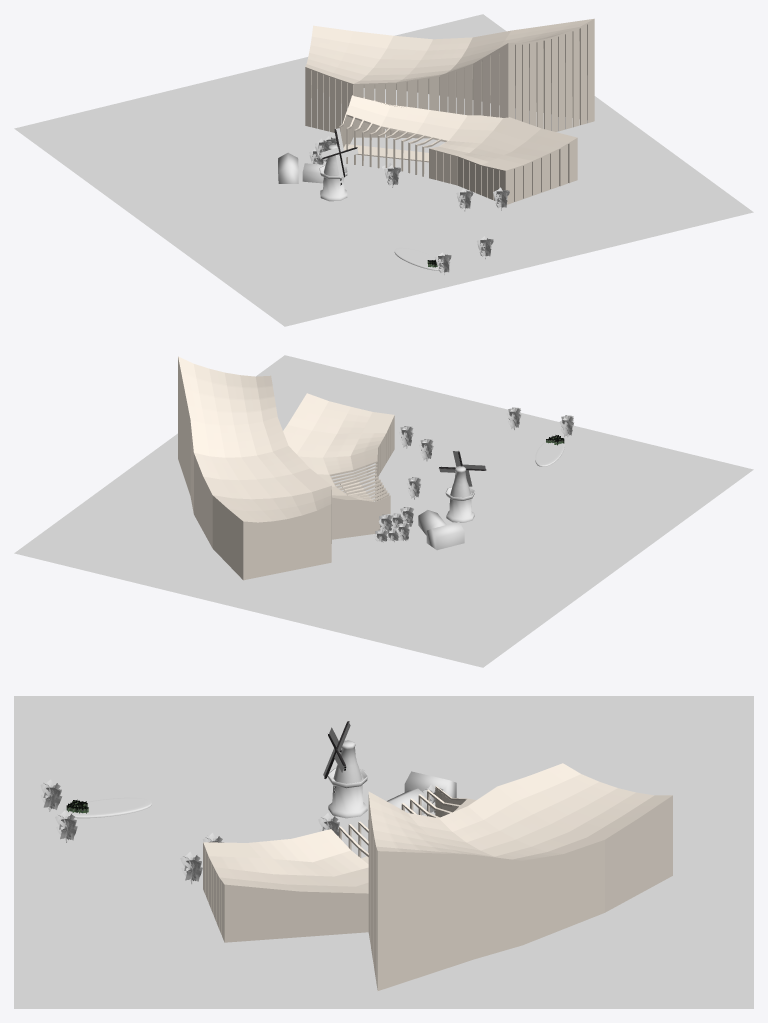
File: model achtergrond2.fbx
The picture shows the model from 3 angles, top to bottom: view 1: azimuth 30°, elevation 25°; view 2: azimuth 150°, elevation 25°; view 3: azimuth 270°, elevation 25°; orthographic projection. The views are drawn at different scales.
Parts seen in each view (by area): view 1: ground, huiscul_groot, huiscul_klein, mill, Cube, flowerbench; view 2: ground, huiscul_groot, huiscul_klein, mill, Cube, flowerbench; view 3: ground, huiscul_groot, huiscul_klein, mill, flowerbench, Cube.
Part boxes in pixels (left/top/right/bottom): ground: left=14, top=14, right=753, bottom=326; huiscul_groot: left=305, top=18, right=594, bottom=137; huiscul_klein: left=339, top=95, right=577, bottom=204; mill: left=319, top=128, right=358, bottom=201; Cube: left=278, top=152, right=298, bottom=183; flowerbench: left=394, top=247, right=438, bottom=270; ground: left=14, top=355, right=753, bottom=667; huiscul_groot: left=178, top=356, right=331, bottom=580; huiscul_klein: left=283, top=393, right=394, bottom=539; mill: left=439, top=451, right=486, bottom=522; Cube: left=426, top=522, right=464, bottom=550; flowerbench: left=535, top=441, right=564, bottom=466; ground: left=14, top=696, right=753, bottom=1008; huiscul_groot: left=368, top=763, right=672, bottom=990; huiscul_klein: left=203, top=786, right=476, bottom=942; mill: left=323, top=721, right=368, bottom=818; flowerbench: left=62, top=797, right=151, bottom=818; Cube: left=404, top=771, right=456, bottom=797.
Size of the model in its own units: 5603 by 1395 by 5603.
